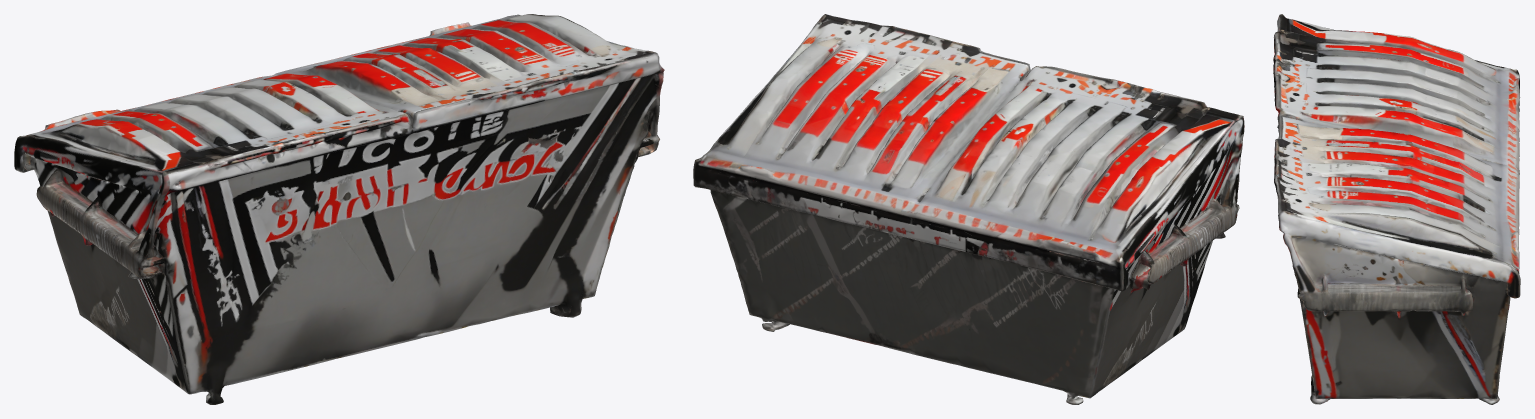
File: skip-6m3-tapat.glb
3 renders of one model, left to right at view 1: azimuth 30°, elevation 25°; view 2: azimuth 150°, elevation 25°; view 3: azimuth 270°, elevation 25°, orthographic. The views are drawn at different scales.
Bounding box in the file's own units: 2 × 0.9816 × 1.
Materials: 1 (1 with a texture image).
